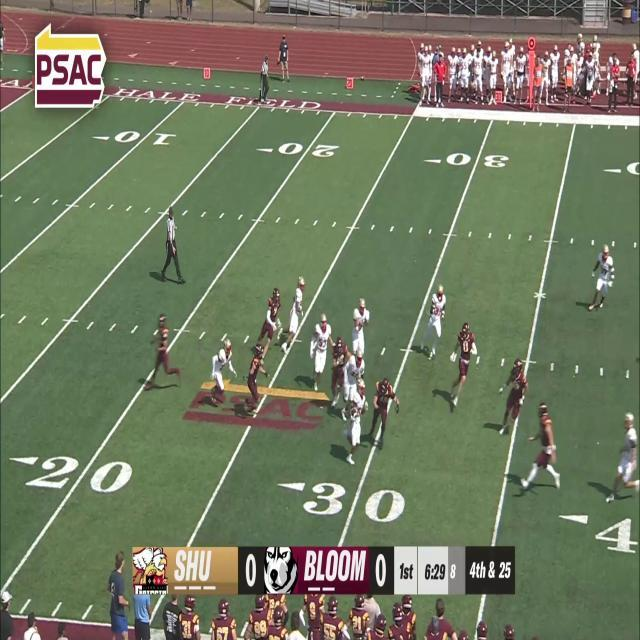football: (350, 406, 358, 418)
